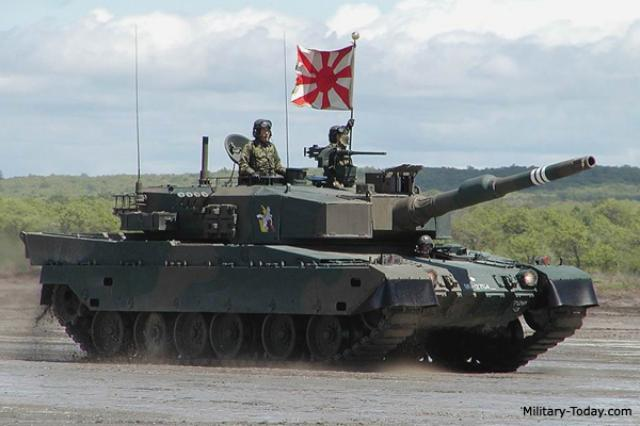other: (242, 118, 282, 177), (319, 123, 353, 167)
tank: (32, 166, 594, 373)
